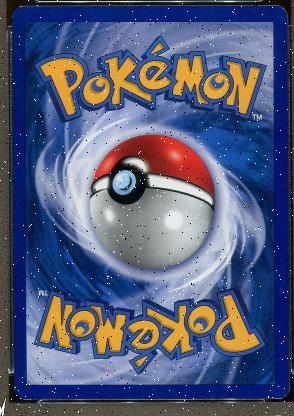Card: (8, 2, 290, 402)
Corner Wear: (269, 382, 290, 400), (20, 5, 178, 7), (13, 386, 35, 400), (10, 5, 24, 20), (271, 3, 284, 15)
Edge Wear: (88, 397, 156, 399)
Scratch: (149, 386, 156, 390), (95, 388, 98, 392)
